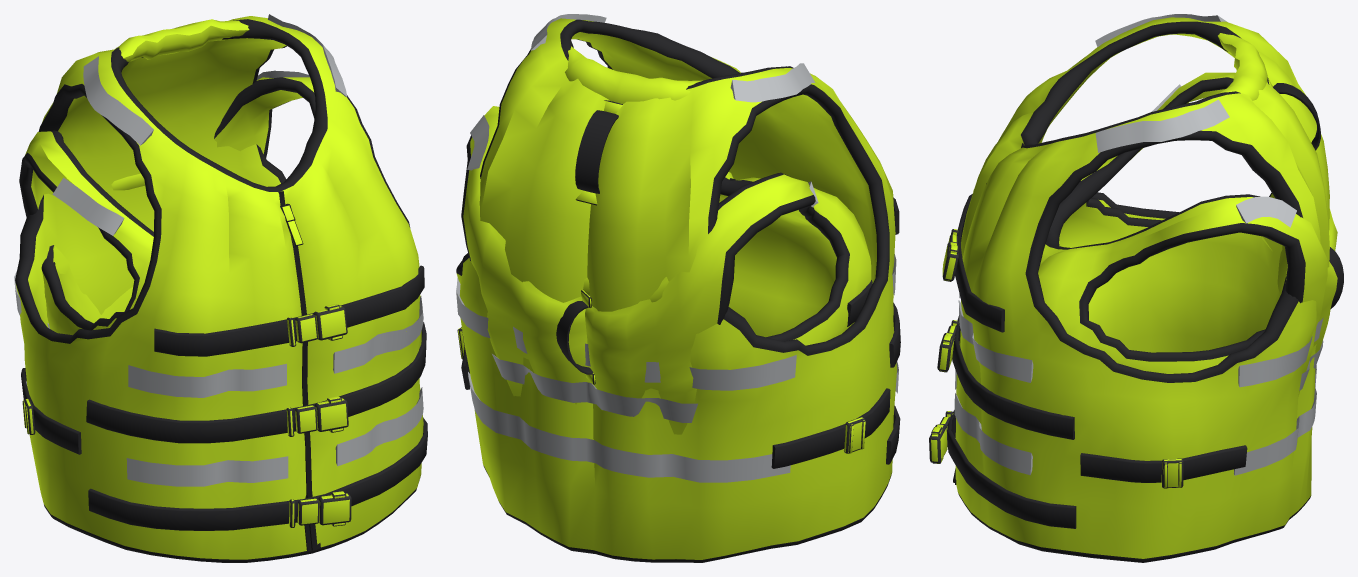
Rendered from jetski_pfd.glb.
3 views of the same model, side by side, from view 1: azimuth 30°, elevation 25°; view 2: azimuth 150°, elevation 25°; view 3: azimuth 270°, elevation 25° (orthographic). The views are drawn at different scales.
Parts seen in each view (by area): view 1: pfd_rider, pfd_mate; view 2: pfd_rider, pfd_mate; view 3: pfd_rider, pfd_mate.
Boxes of the visible parts, left/top/right/bottom form: pfd_rider: left=14, top=14, right=427, bottom=562; pfd_mate: left=19, top=70, right=315, bottom=335; pfd_rider: left=456, top=14, right=900, bottom=562; pfd_mate: left=461, top=106, right=872, bottom=434; pfd_rider: left=929, top=14, right=1329, bottom=562; pfd_mate: left=1038, top=72, right=1343, bottom=396.
Size of the model in its own units: 0.4439 by 0.4957 by 0.4246.
